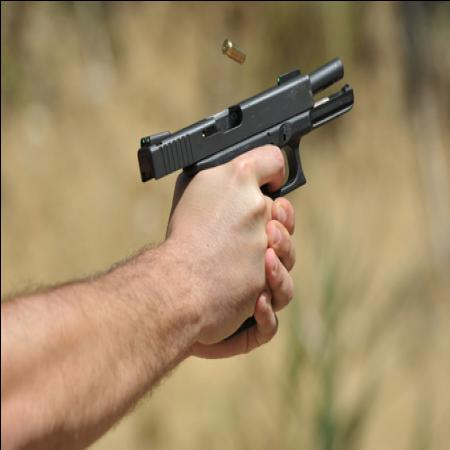Pistol: (136, 53, 358, 342)
